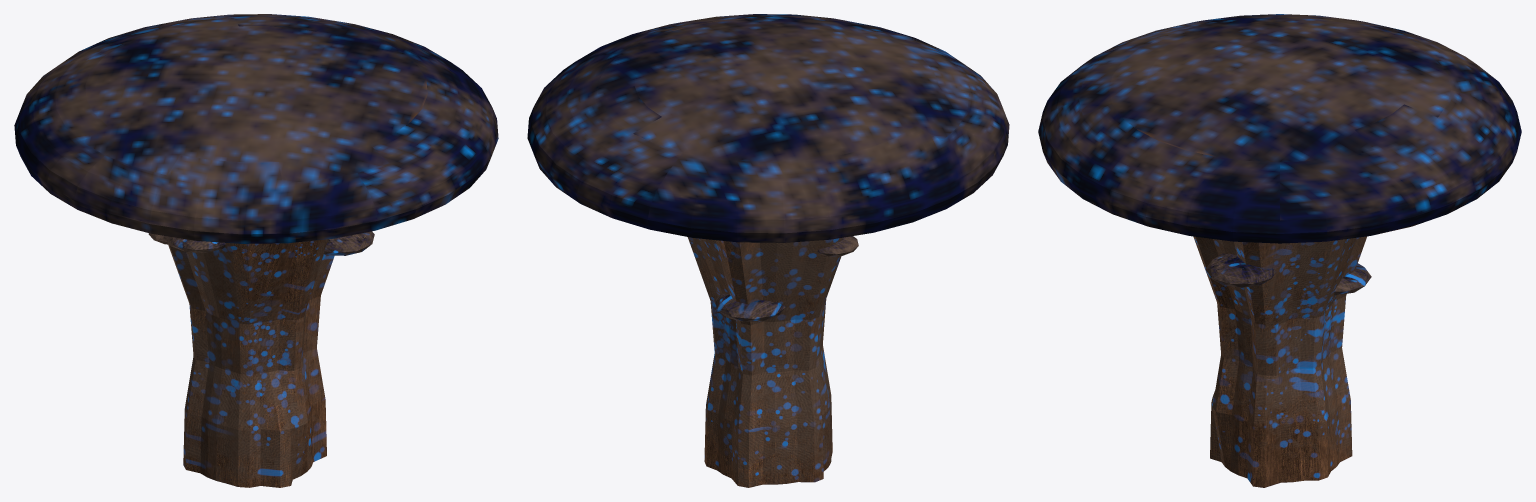
Rendered from SetaSaltaco.fbx.
3 views of the same model, side by side, from view 1: azimuth 30°, elevation 25°; view 2: azimuth 150°, elevation 25°; view 3: azimuth 270°, elevation 25° (orthographic).
Parts seen in each view (by area): view 1: Esfera, Cilindro.003, Esfera geodésica.001, Esfera geodésica.003; view 2: Esfera, Cilindro.003, Esfera geodésica.002, Esfera geodésica.004; view 3: Esfera, Cilindro.003, Esfera geodésica.001, Esfera geodésica.002.
Boxes of the visible parts, x1,y1,x2,y2 form: Esfera: [14, 14, 498, 243]; Cilindro.003: [168, 239, 334, 487]; Esfera geodésica.001: [323, 231, 374, 255]; Esfera geodésica.003: [163, 236, 226, 252]; Esfera: [527, 14, 1009, 242]; Cilindro.003: [687, 237, 842, 487]; Esfera geodésica.002: [715, 293, 785, 321]; Esfera geodésica.004: [817, 236, 858, 256]; Esfera: [1038, 14, 1521, 243]; Cilindro.003: [1193, 236, 1367, 487]; Esfera geodésica.001: [1205, 253, 1275, 287]; Esfera geodésica.002: [1334, 263, 1371, 295].
Size of the model in its own units: 710 by 625 by 710.
1 material, 1 textured.
